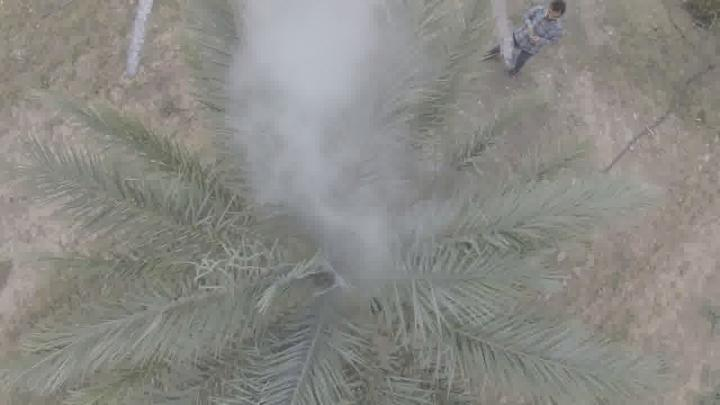Date-Palm-Crown: (148, 93, 532, 399)
